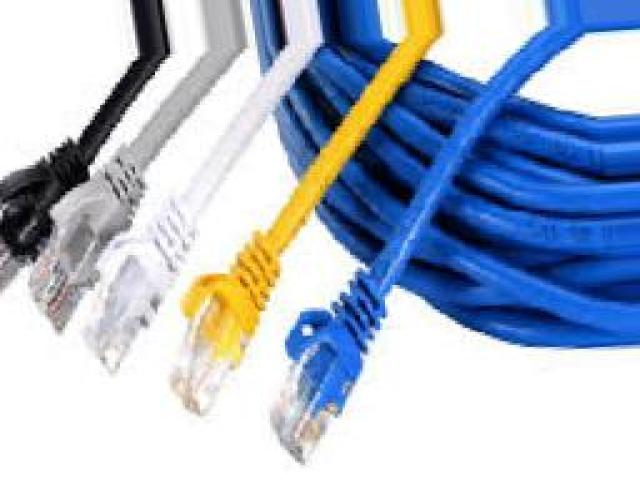wire: (2, 0, 640, 467)
